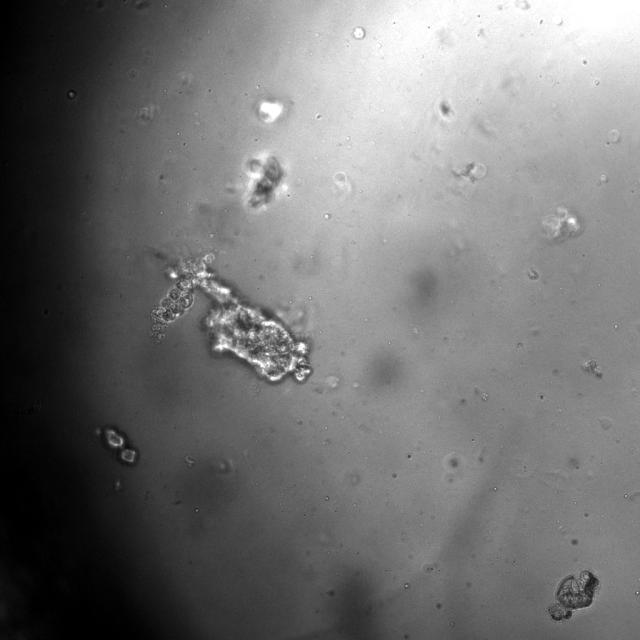organoid: (548, 570, 600, 621), (248, 155, 283, 207), (98, 426, 138, 465)
